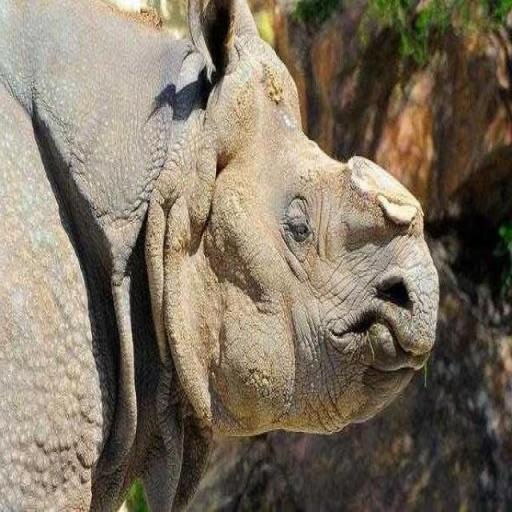Rhino: (0, 0, 440, 511)
